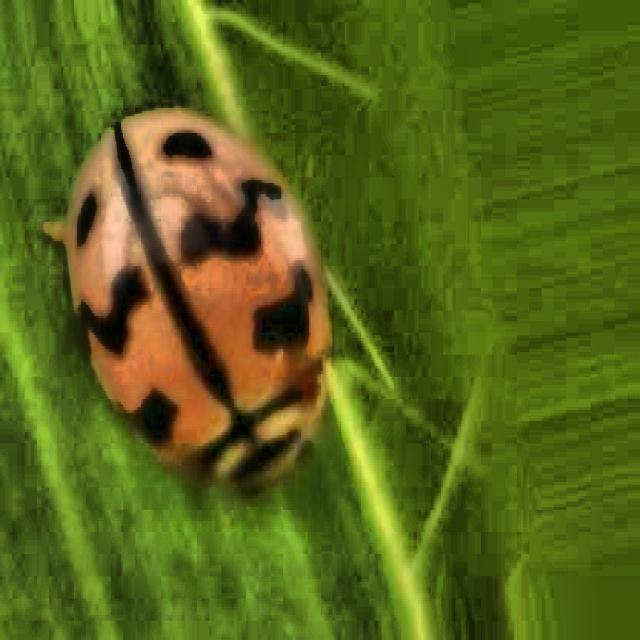Asian-Lady-beetle: (20, 74, 377, 609)
